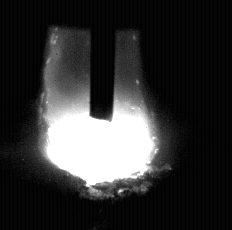arame: (91, 0, 115, 122)
poca: (47, 0, 152, 230)
